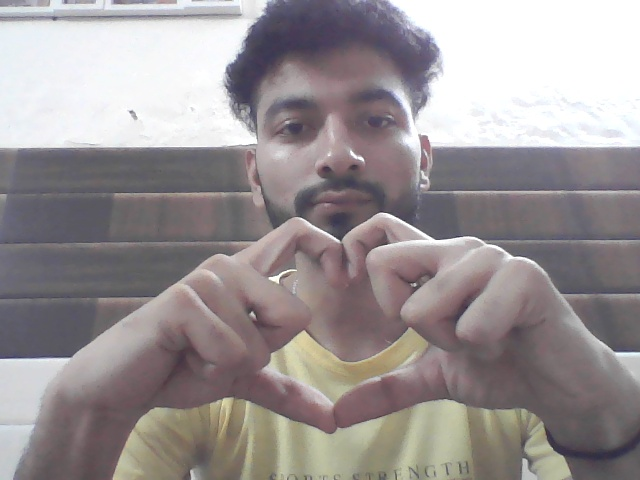Iloveyou: (153, 217, 539, 443)
